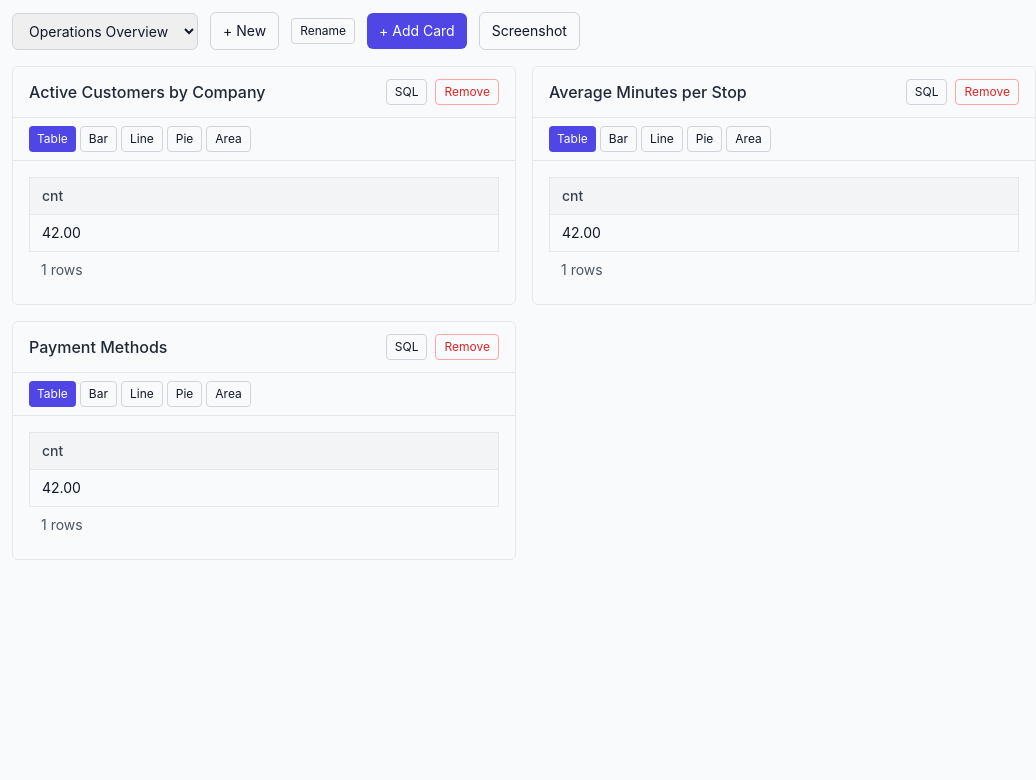
Scenario: DashboardView › adds card via add form and shows results
The image size is (1036, 780).
Note: Open add form
Click the button "+ Add Card". click: {"x": 417, "y": 31}
box: [367, 13, 467, 49]
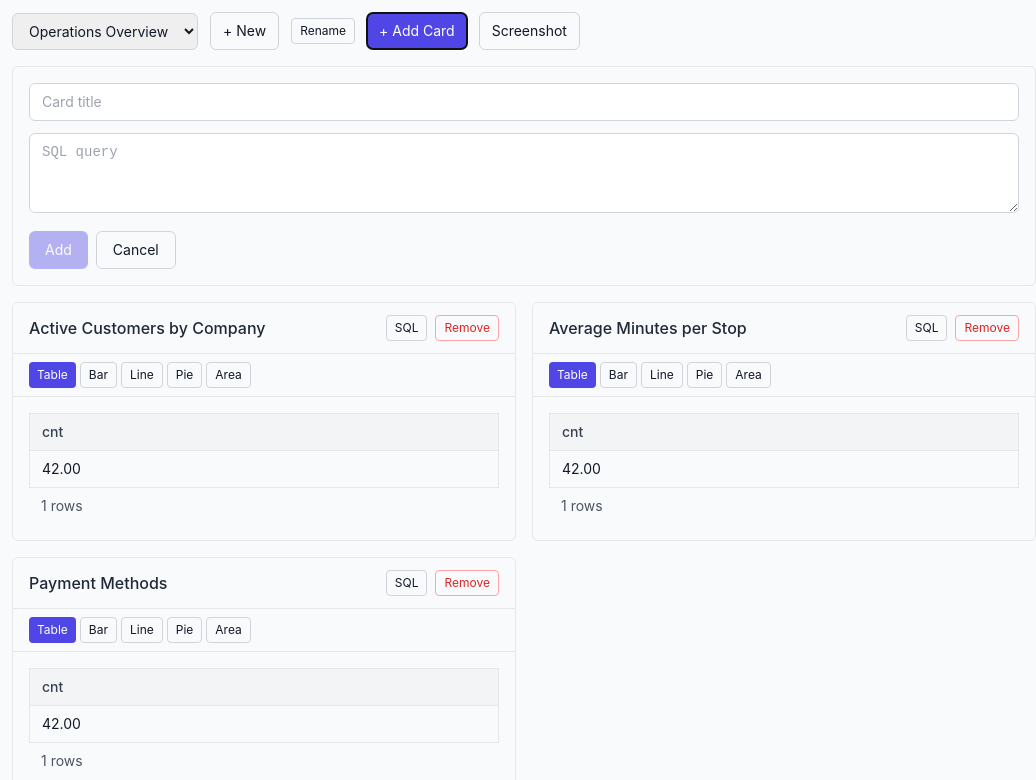
Type "Customer Count" into the field with placeholder "Card title". click: {"x": 524, "y": 102}
box: [29, 83, 1019, 121]
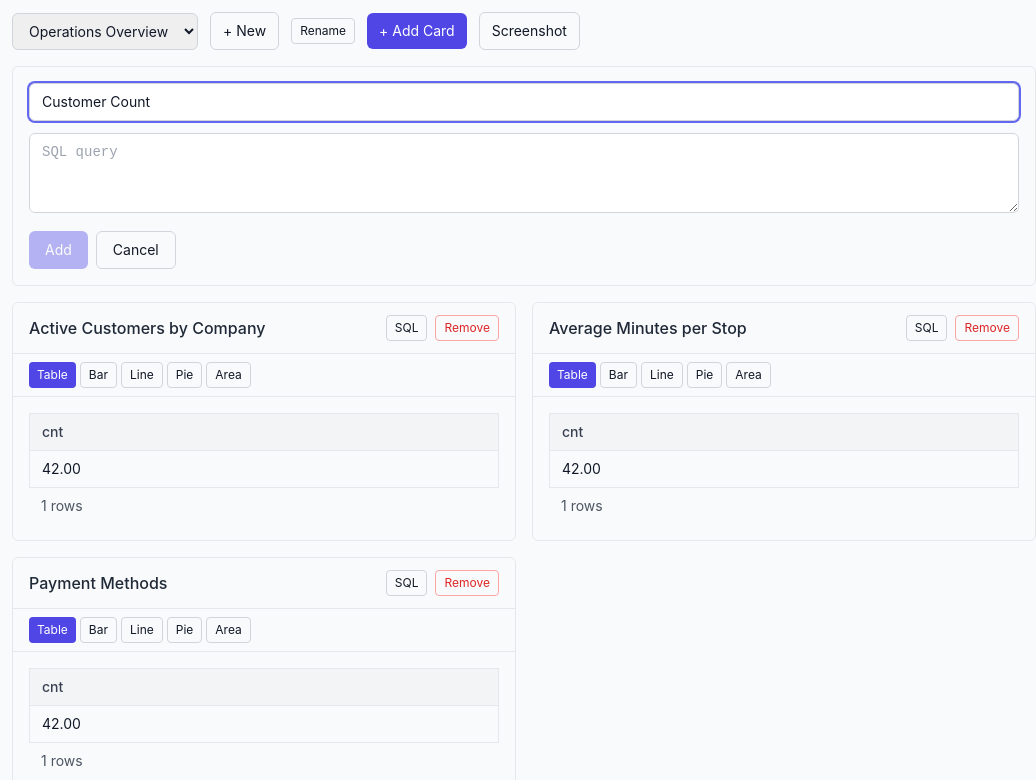
Type "SELECT COUNT(*) AS cnt FROM customer" into the text box with placeholder "SQL query". click: {"x": 524, "y": 173}
box: [29, 133, 1019, 213]
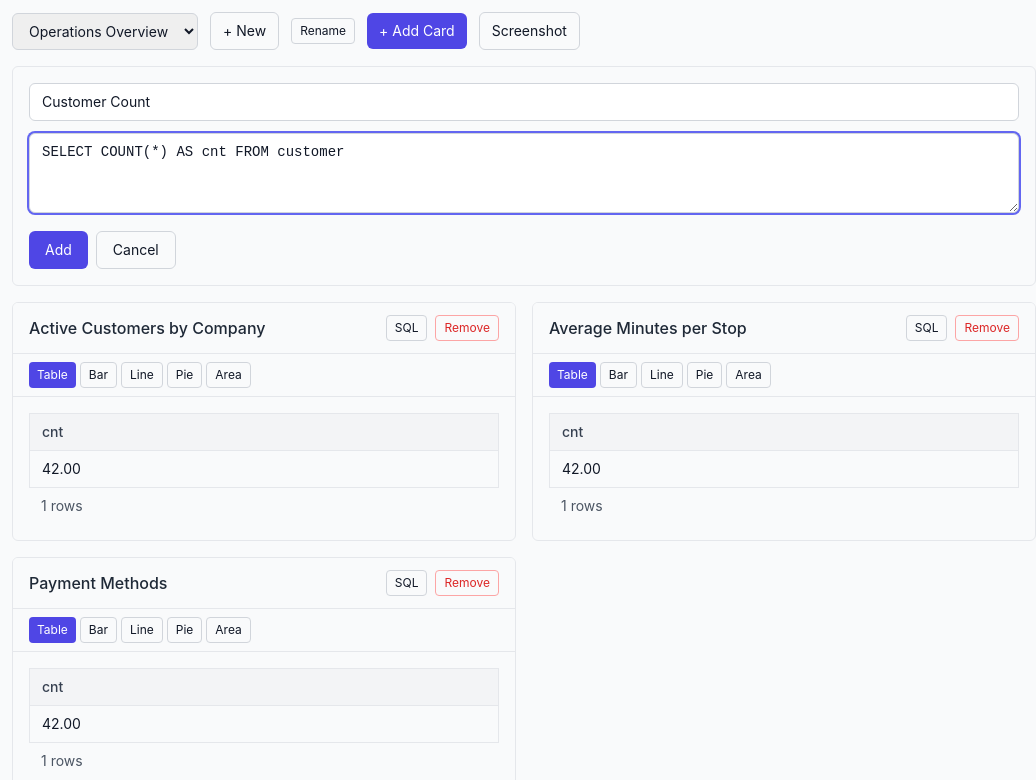
Click the button "Add". click: {"x": 58, "y": 250}
box: [29, 231, 88, 269]
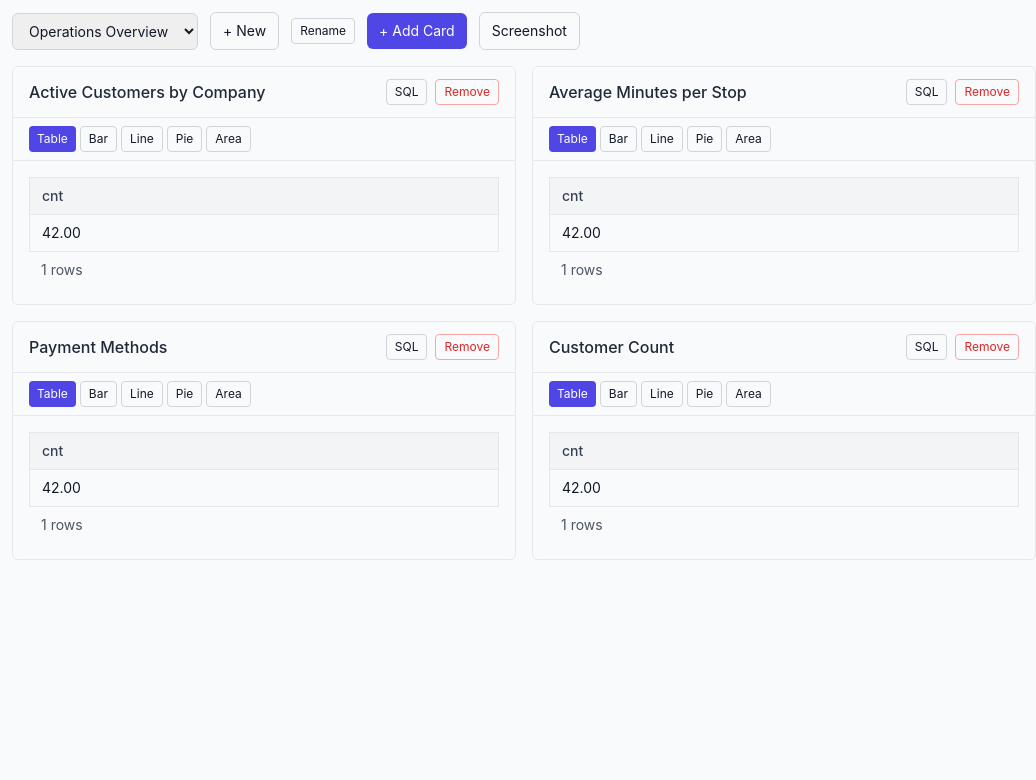
Expected: the heading "Customer Count" is shown, [549, 335, 674, 359]
